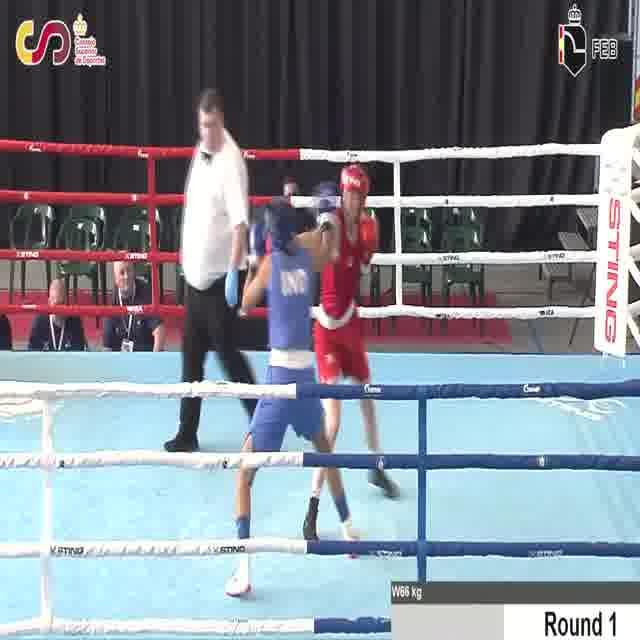blue-player: (220, 180, 364, 599)
red-player: (263, 160, 401, 553)
referee: (160, 85, 277, 455)
